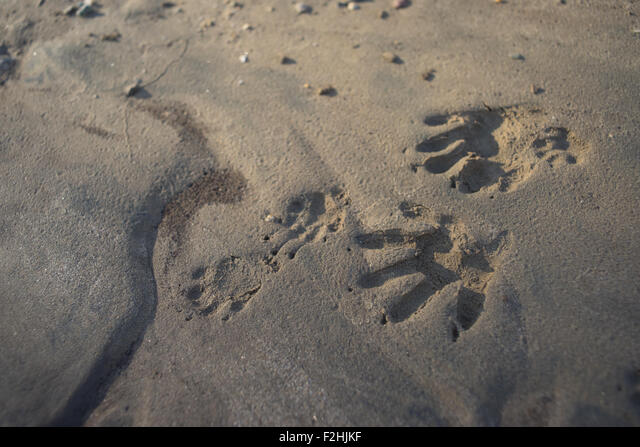raccoon: (390, 72, 594, 211), (346, 190, 505, 345)
